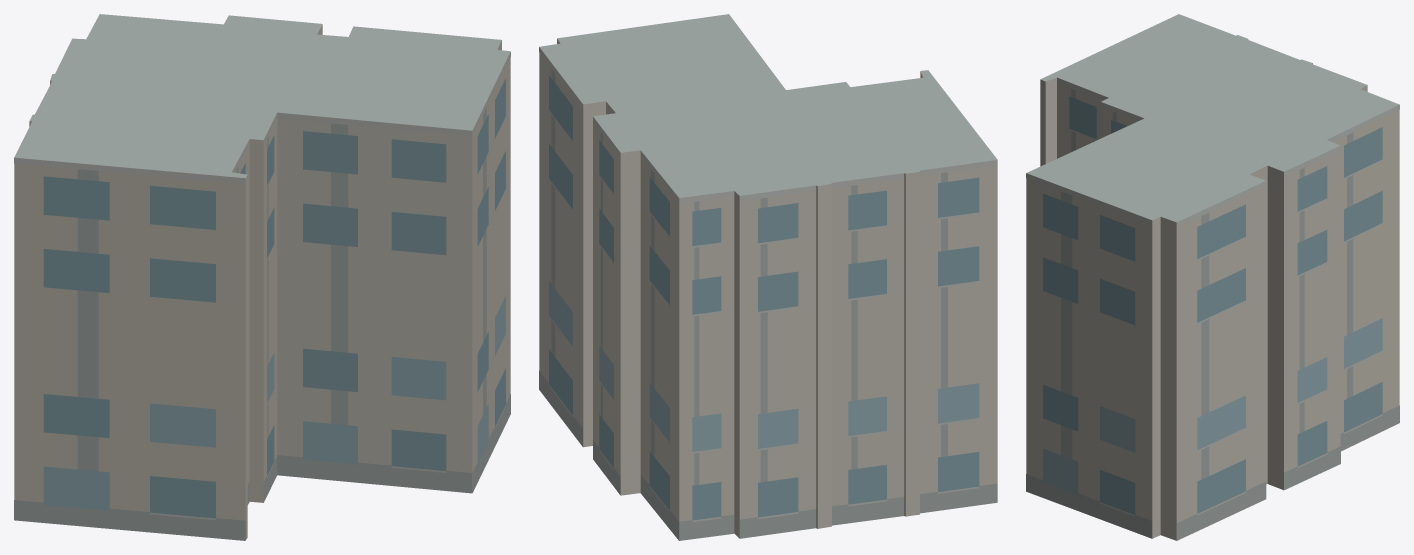
The model's file is survey-upis-32986757.glb.
3 renders of one model, left to right at view 1: azimuth 30°, elevation 25°; view 2: azimuth 150°, elevation 25°; view 3: azimuth 270°, elevation 25°, orthographic. The views are drawn at different scales.
Visible parts, largest first — view 1: survey-upis-32986757.tmp; view 2: survey-upis-32986757.tmp; view 3: survey-upis-32986757.tmp.
Boxes of the visible parts, box(x1,y1,x2,y2) form: survey-upis-32986757.tmp: box(14, 14, 510, 540); survey-upis-32986757.tmp: box(539, 14, 997, 540); survey-upis-32986757.tmp: box(1026, 14, 1399, 540).
Size of the model in its own units: 21.06 by 15 by 15.95.
